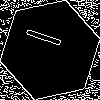I: (25, 25, 71, 53)
